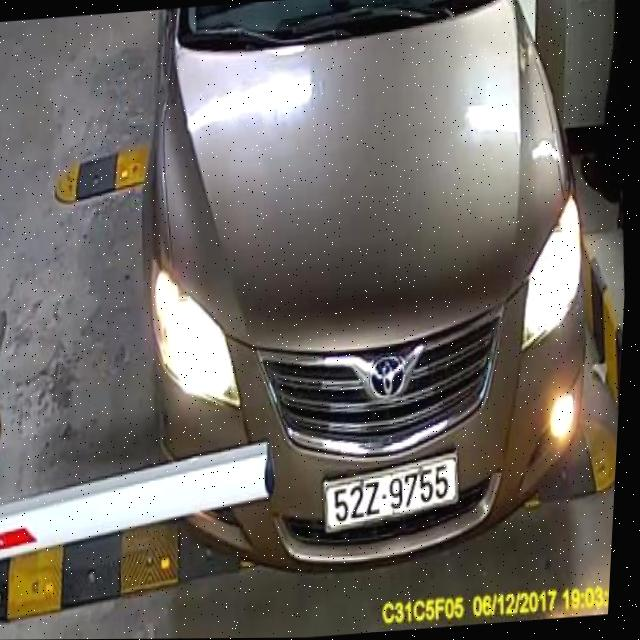car: (101, 0, 626, 584)
plate: (315, 456, 466, 534)
